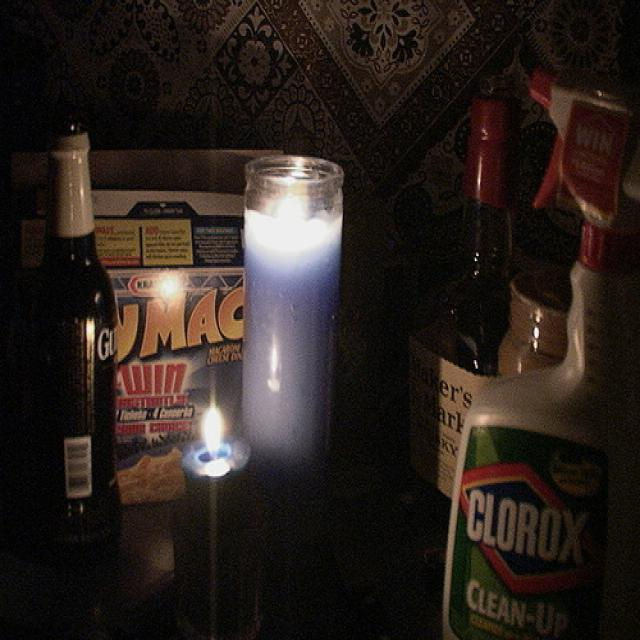Bottle: (543, 121, 639, 640), (441, 54, 539, 560), (238, 133, 350, 526), (35, 125, 129, 561), (170, 425, 269, 640)
